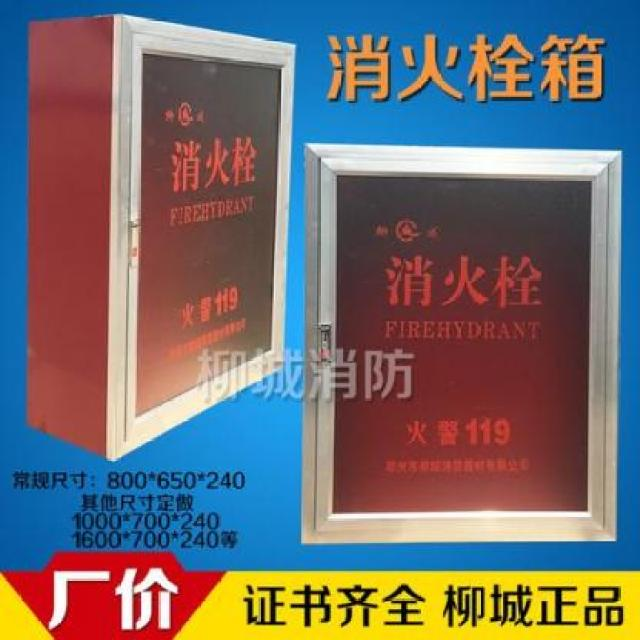firehydrant: (297, 138, 624, 547), (22, 9, 300, 468)
